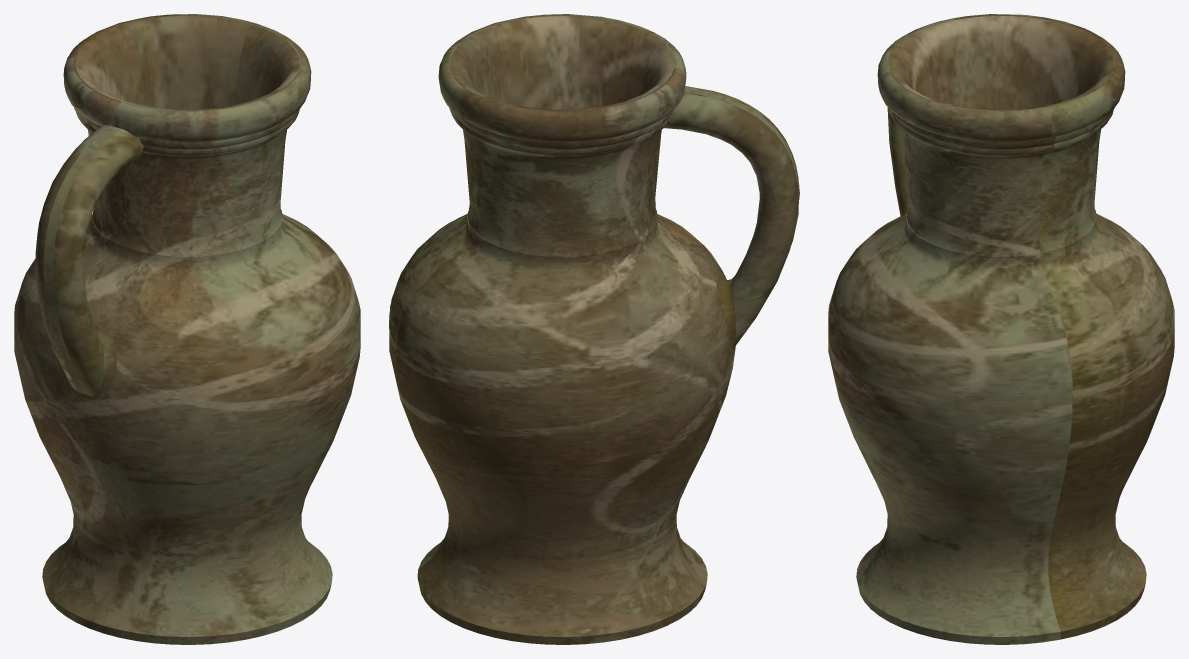
Rendered from obj_antique_vase_s5139506.glb.
3 renders of one model, left to right at view 1: azimuth 30°, elevation 25°; view 2: azimuth 150°, elevation 25°; view 3: azimuth 270°, elevation 25°, orthographic.
Parts seen in each view (by area): view 1: Vase_01 - Default_0; view 2: Vase_01 - Default_0; view 3: Vase_01 - Default_0.
Boxes of the visible parts, <box> form: Vase_01 - Default_0: <box>14,14,360,644</box>; Vase_01 - Default_0: <box>389,14,799,644</box>; Vase_01 - Default_0: <box>828,14,1174,644</box>.
Bounding box in the file's own units: 0.2057 × 0.3002 × 0.1808.
Materials: 1 (1 with a texture image).
